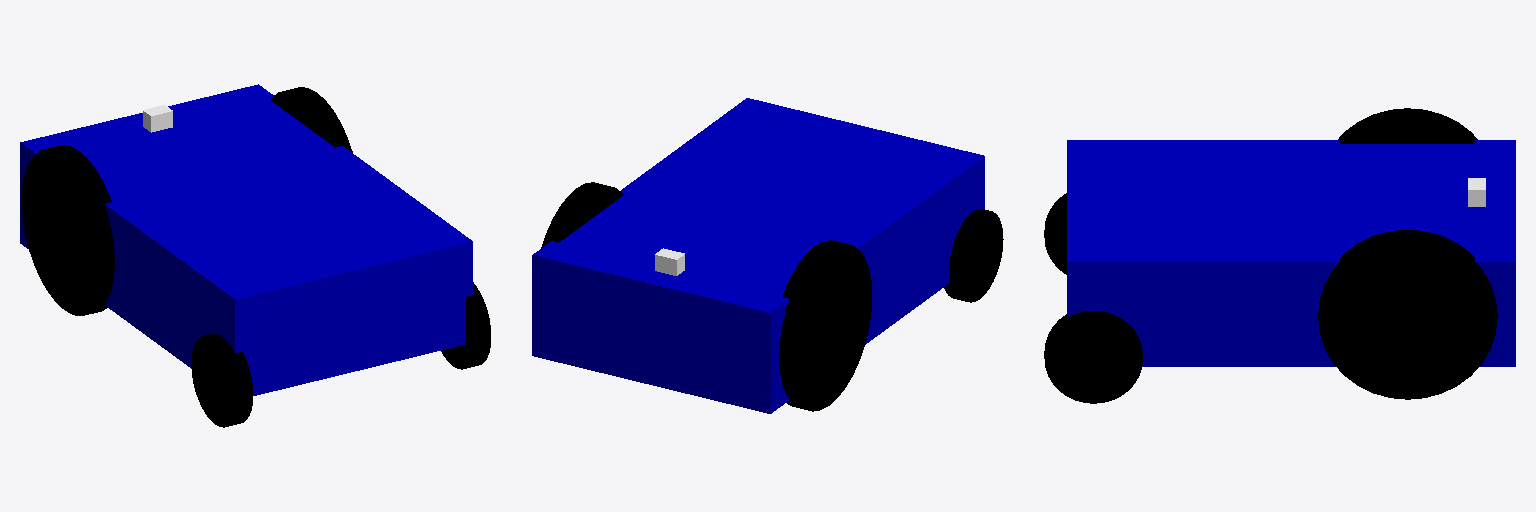
robot.urdf — smartcar:
<?xml version="1.0"?>  
<robot name="smartcar">  
  <link name="base_link">  
    <visual>  
      <geometry>  
        <box size="0.5 .32 .13"/>
    </geometry>  
    <origin rpy="0 0 1.57075" xyz="0 0.12 -0.05"/>   <!-- 1.57075 -->
    <material name="blue">  
        <color rgba="0 0 .8 1"/>  
    </material>  
    </visual>  
 </link>  
  
 <link name="right_front_wheel">  
    <visual>  
      <geometry>  
        <cylinder length=".02" radius="0.1"/>
      </geometry>  
      <material name="black">  
        <color rgba="0 0 0 1"/>  
      </material>  
    </visual>  
  </link>  
  
  <joint name="right_front_wheel_joint" type="continuous">  
    <axis xyz="0 0 1"/>  
    <parent link="base_link"/>  
    <child link="right_front_wheel"/>  
    <origin rpy="0 1.57075 0" xyz="0.16 0.25 -0.05"/>
    <limit effort="100" velocity="100"/>  
    <joint_properties damping="0.0" friction="0.0"/>  
  </joint>  
  
  <link name="right_back_wheel">  
    <visual>  
      <geometry>  
        <cylinder length=".02" radius="0.055"/>
      </geometry>  
      <material name="black">  
        <color rgba="0 0 0 1"/>  
      </material>  
    </visual>  
  </link>  
  
  <joint name="right_back_wheel_joint" type="continuous">  
    <axis xyz="0 0 1"/>  
    <parent link="base_link"/>  
    <child link="right_back_wheel"/>  
    <origin rpy="0 1.57075 0" xyz="0.16 -0.1 -0.1"/>
    <limit effort="100" velocity="100"/>  
    <joint_properties damping="0.0" friction="0.0"/>  
 </joint>  
  
 <link name="left_front_wheel">  
    <visual>  
      <geometry>  
        <cylinder length=".02" radius="0.1"/>
      </geometry>  
      <material name="black">  
        <color rgba="0 0 0 1"/>  
      </material>  
    </visual>  
  </link>  
  
  <joint name="left_front_wheel_joint" type="continuous">  
    <axis xyz="0 0 1"/>  
    <parent link="base_link"/>  
    <child link="left_front_wheel"/>  
    <origin rpy="0 1.57075 0" xyz="-0.16 0.25 -0.05"/>
    <limit effort="100" velocity="100"/>  
    <joint_properties damping="0.0" friction="0.0"/>  
  </joint>  
  
  <link name="left_back_wheel">  
    <visual>  
      <geometry>  
        <cylinder length=".02" radius="0.055"/>
      </geometry>  
      <material name="black">  
        <color rgba="0 0 0 1"/>  
      </material>  
    </visual>  
  </link>  
  
  <joint name="left_back_wheel_joint" type="continuous">  
    <axis xyz="0 0 1"/>  
    <parent link="base_link"/>  
    <child link="left_back_wheel"/>  
    <origin rpy="0 1.57075 0" xyz="-0.16 -0.1 -0.1"/>
    <limit effort="100" velocity="100"/>  
    <joint_properties damping="0.0" friction="0.0"/>  
  </joint>  
  
  <link name="laser">
    <visual>
      <geometry>  
        <box size=".02 .03 .03"/>  
      </geometry>  
      <material name="white">  
          <color rgba="1 1 1 1"/>  
      </material>  
    </visual>  
  </link>  
  
  <joint name="lidar" type="fixed">
    <parent link="base_link"/>  
    <child link="laser"/>
    <origin rpy="0 0 1.57075" xyz="0 0.327 0.021"/> <!-- 1.57075 -->
  </joint>  
</robot>

--- Render facts (derived) ---
Views: 3 orthographic renders of the robot side by side, from view 1: azimuth 30°, elevation 25°; view 2: azimuth 150°, elevation 25°; view 3: azimuth 270°, elevation 25°.
Robot: smartcar — 6 links, 5 joints (4 continuous, 1 fixed); root link base_link; default pose: all joints at 0.
Visible links, largest first — view 1: base_link, left_front_wheel, left_back_wheel, right_front_wheel, right_back_wheel, laser; view 2: base_link, left_front_wheel, left_back_wheel, right_front_wheel, laser; view 3: base_link, right_front_wheel, right_back_wheel, left_front_wheel, left_back_wheel.
Link boxes in pixels (x1,y1,x2,y2): base_link: (20, 84, 472, 395); left_front_wheel: (22, 145, 114, 315); left_back_wheel: (191, 334, 252, 427); right_front_wheel: (271, 87, 352, 152); right_back_wheel: (441, 282, 490, 369); laser: (143, 105, 172, 132); base_link: (532, 98, 984, 413); left_front_wheel: (779, 240, 871, 411); left_back_wheel: (944, 209, 1003, 302); right_front_wheel: (541, 182, 623, 247); laser: (655, 248, 684, 275); base_link: (1067, 140, 1515, 366); right_front_wheel: (1318, 230, 1497, 399); right_back_wheel: (1044, 311, 1142, 403); left_front_wheel: (1338, 108, 1477, 143); left_back_wheel: (1044, 193, 1066, 274).
Size in the robot's own frame: 0.34 by 0.525 by 0.205 metres.
Geometry: primitives only (box / cylinder / sphere), no mesh files.